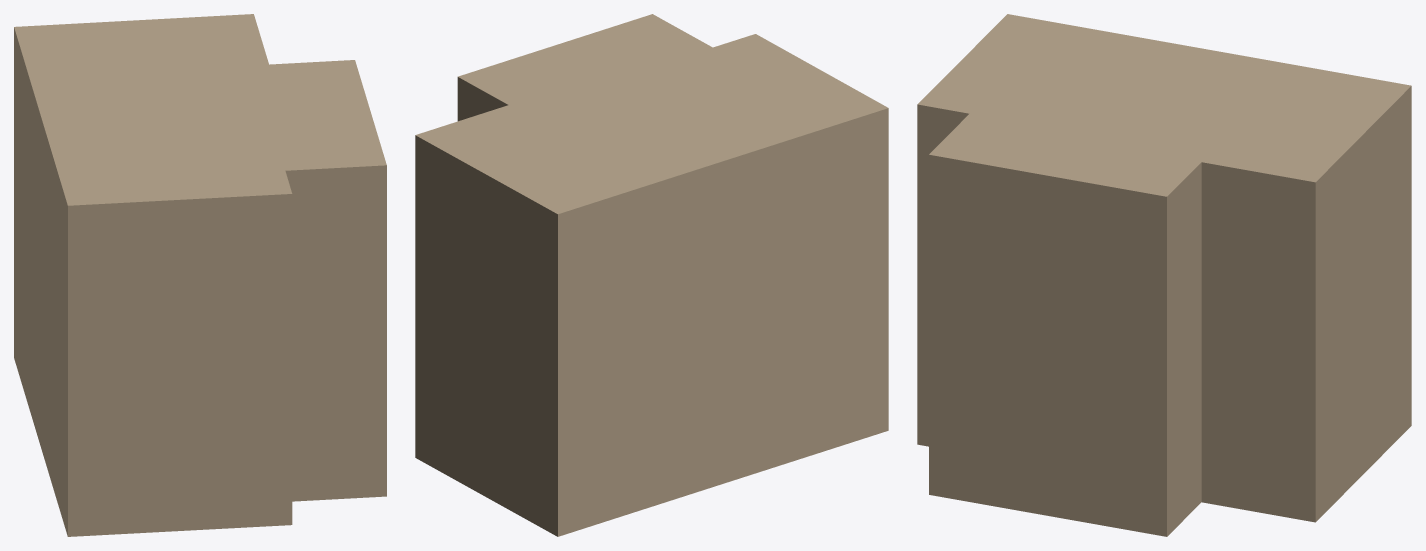
Rendered from bld_99532026.dae.
3 views of the same model, side by side, from view 1: azimuth 30°, elevation 25°; view 2: azimuth 150°, elevation 25°; view 3: azimuth 270°, elevation 25° (orthographic). The views are drawn at different scales.
Visible parts, largest first — view 1: bld_99532026; view 2: bld_99532026; view 3: bld_99532026.
Boxes of the visible parts, bbox=[...] form: bld_99532026: bbox=[14, 14, 386, 536]; bld_99532026: bbox=[415, 14, 888, 536]; bld_99532026: bbox=[917, 14, 1411, 536].
Size of the model in its own units: 9.22 by 10.54 by 8.
